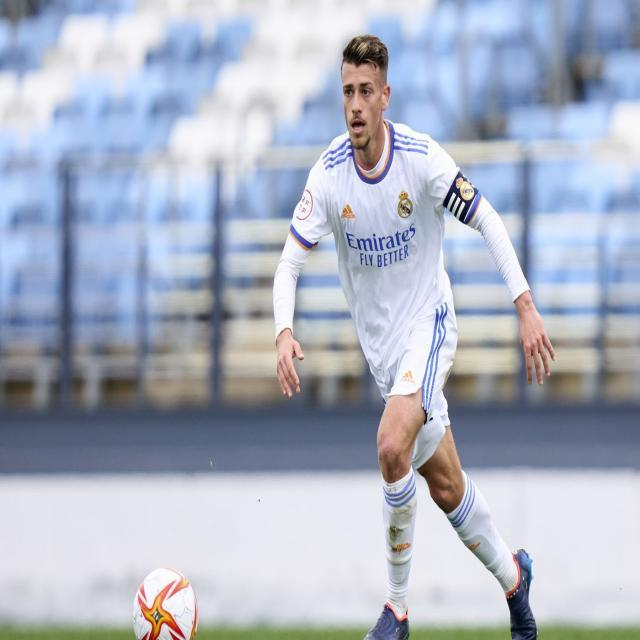Adidas: (341, 203, 355, 219), (400, 370, 414, 384)
Emirates: (345, 223, 416, 252)
